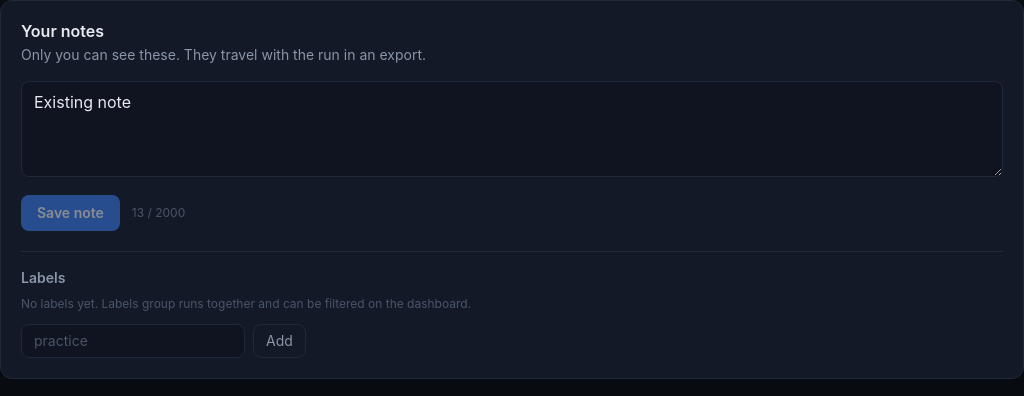
RunAnnotations — the note › enables saving once the note is edited
Replace the text in the text box named "Notes on this run" with "Changed": (512, 129) [21, 81, 1003, 177]
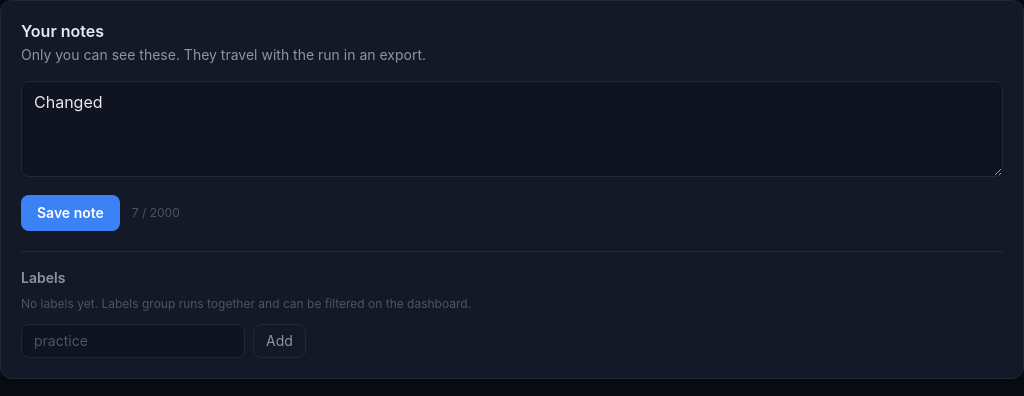
Check: the button "Save note" is enabled, box [21, 195, 120, 231]
